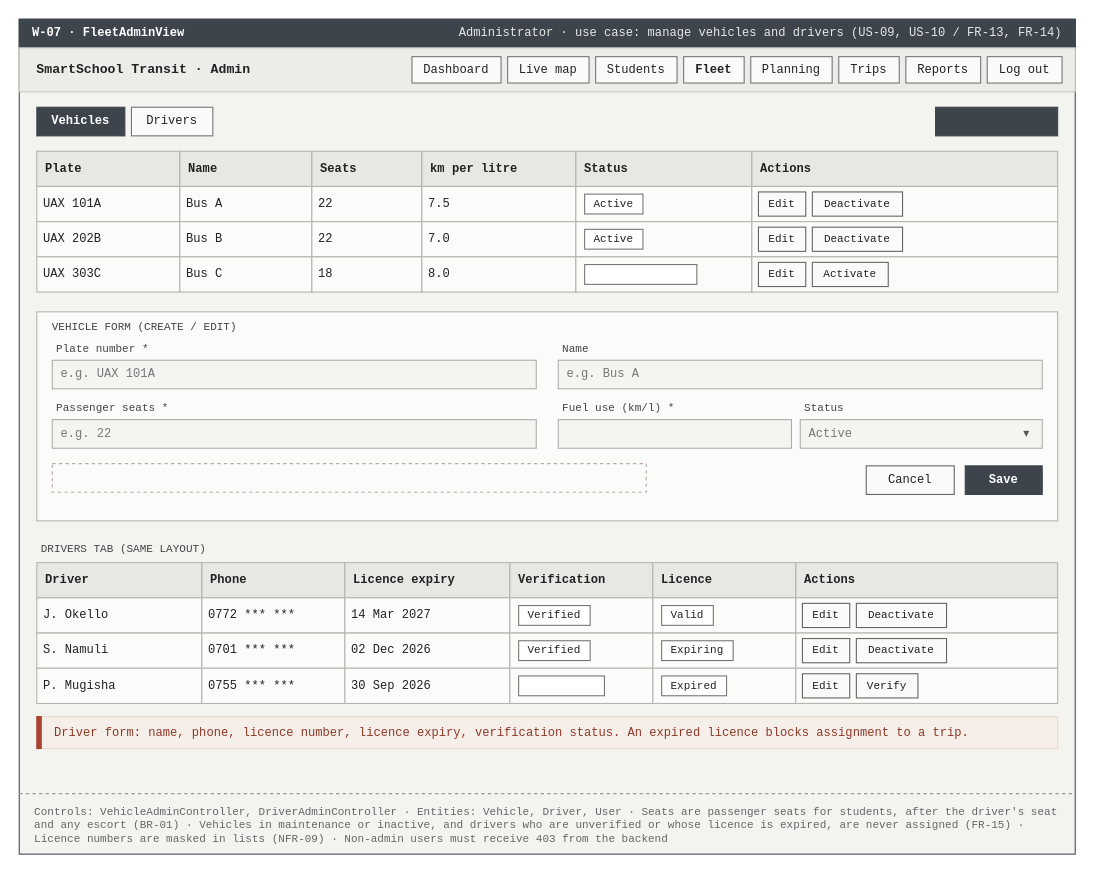
Image size: 1096x873. Some labels were removed from this diagram. Each missing label, with the box of its shape:
+ New vehicle: (934, 106, 1058, 136)
e.g. 7.5: (557, 419, 791, 448)
In maintenance: (584, 263, 697, 284)
Unverified: (518, 675, 604, 696)
⚠ Plate number already registered (error slot): (51, 463, 646, 492)
